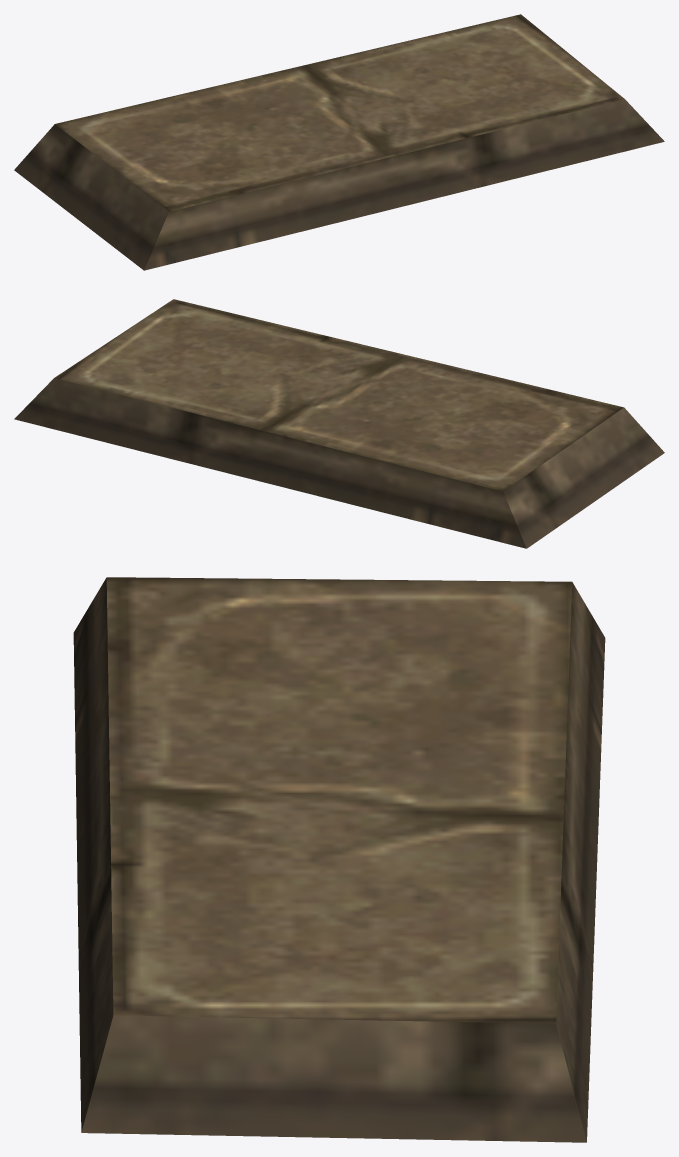
File: A_dizhuan_002.fbx
3 views of the same model, one above another, from view 1: azimuth 30°, elevation 25°; view 2: azimuth 150°, elevation 25°; view 3: azimuth 270°, elevation 25° (orthographic). The views are drawn at different scales.
Visible parts, largest first — view 1: pasted__A_dizhuan_002; view 2: pasted__A_dizhuan_002; view 3: pasted__A_dizhuan_002.
Boxes of the visible parts, box(x1,y1,x2,y2) form: pasted__A_dizhuan_002: box(14, 14, 664, 270); pasted__A_dizhuan_002: box(14, 299, 664, 548); pasted__A_dizhuan_002: box(73, 577, 605, 1142).
Size of the model in its own units: 67.37 by 5.37 by 29.68.
